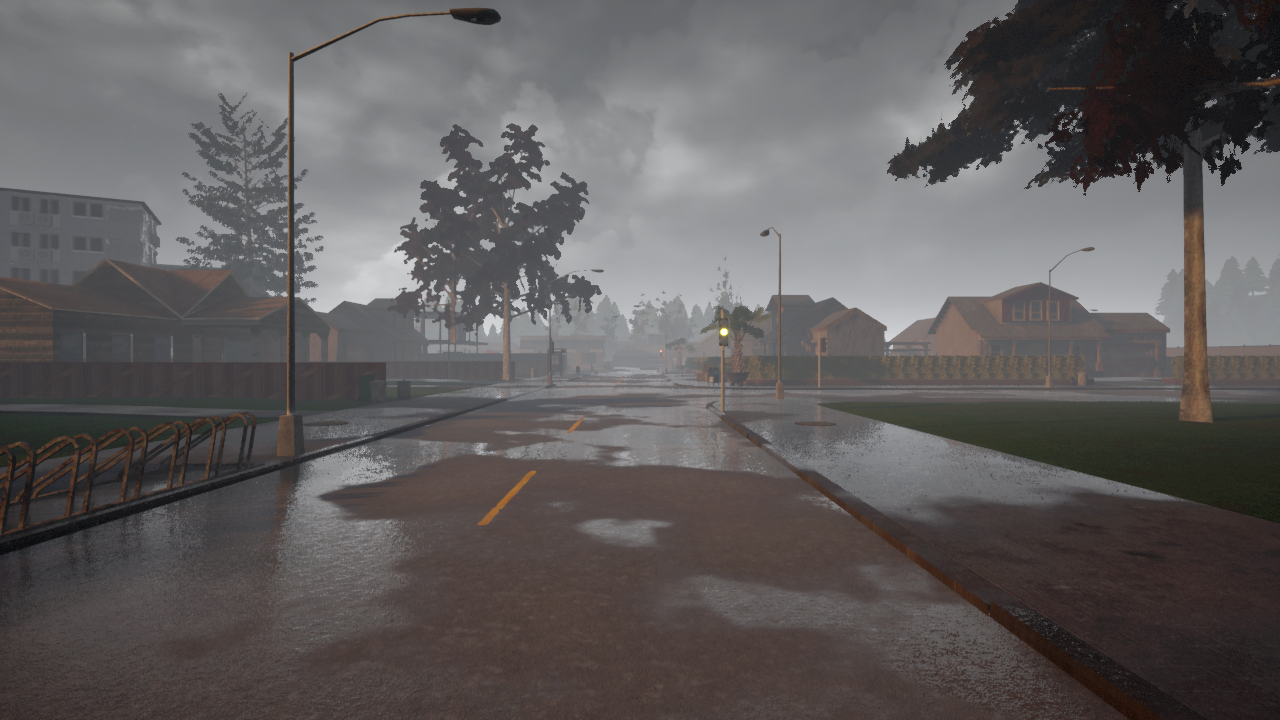yellow: (716, 317, 730, 349)
